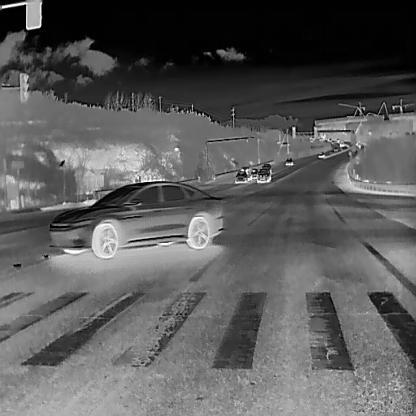car: (48, 179, 223, 258), (255, 167, 270, 183), (238, 166, 253, 180), (234, 170, 248, 184), (261, 162, 272, 174), (249, 167, 258, 179), (284, 157, 294, 166), (318, 150, 325, 158), (338, 138, 344, 147), (333, 146, 337, 151), (329, 149, 333, 154), (330, 139, 334, 144), (357, 143, 361, 147), (340, 147, 344, 151), (355, 141, 358, 145)
